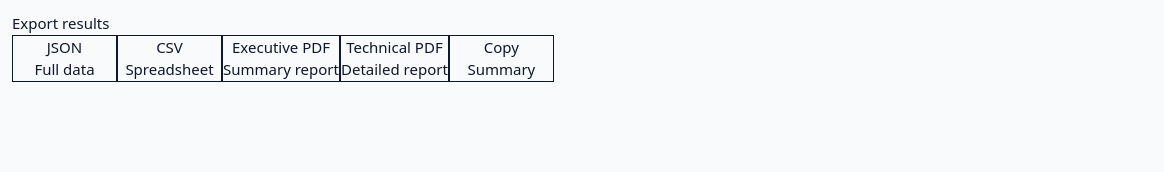
it: ExportPanel — PDF › shows the server's detail from a JSON error body
Click the button "Executive PDF Summary report" at (281, 58), box [222,34,340,82]
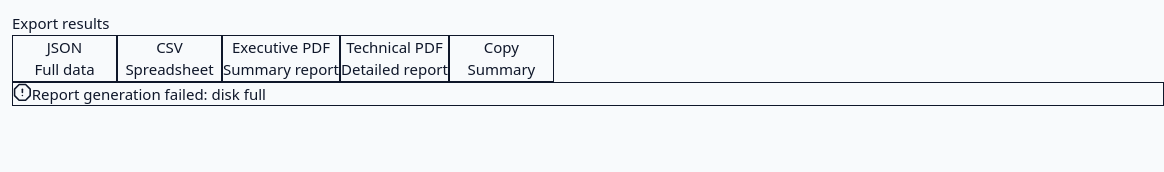
Result: the text "Report generation failed: disk full" is shown at [32,84,266,104]
